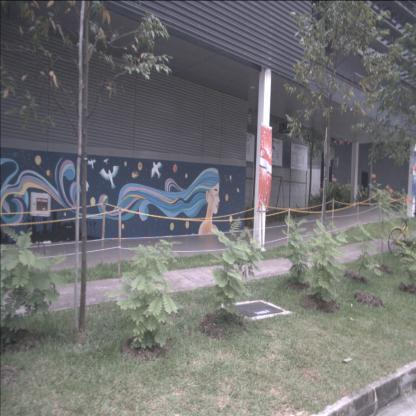vehicle-bicycle: (387, 217, 415, 260)
